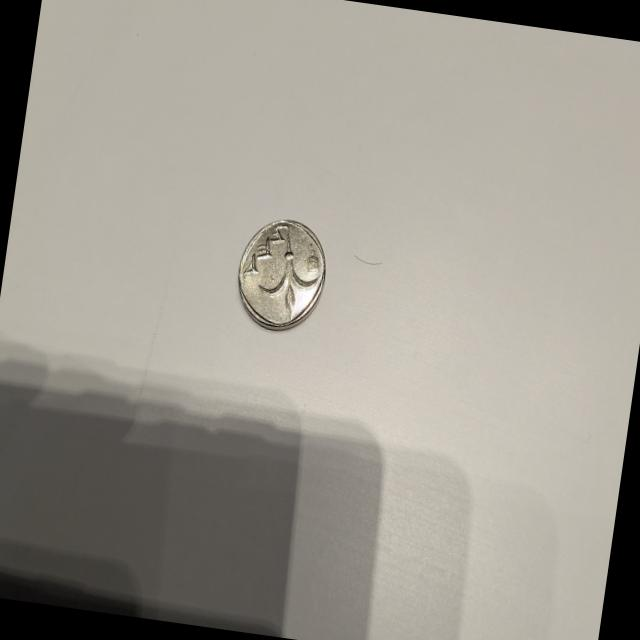1-shekel: (226, 212, 332, 341)
